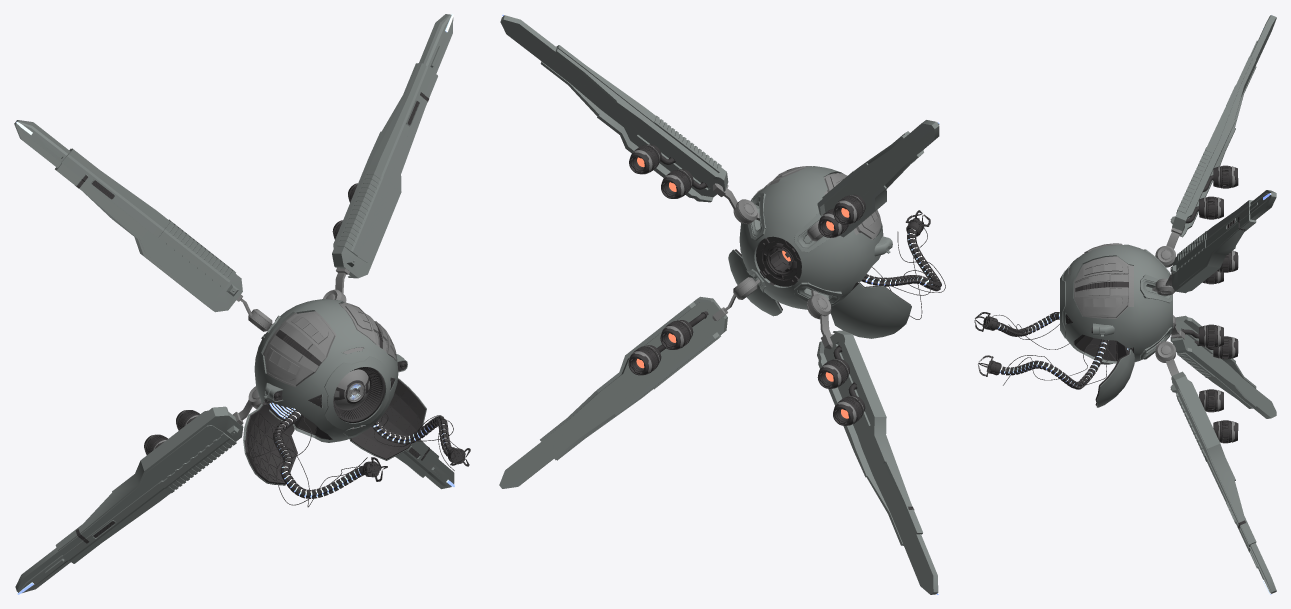
The model's file is dronex-transformed.glb.
3 renders of one model, left to right at view 1: azimuth 30°, elevation 25°; view 2: azimuth 150°, elevation 25°; view 3: azimuth 270°, elevation 25°, orthographic. The views are drawn at different scales.
Visible parts, largest first — view 1: Object_4, Object_8, Object_13, Object_9; view 2: Object_4, Object_8, Object_13; view 3: Object_4, Object_8, Object_13, Object_9.
Part boxes in pixels (x1,y1,x2,y2): Object_4: (14,14,454,592); Object_8: (76,92,470,543); Object_13: (144,183,396,450); Object_9: (16,14,454,594); Object_4: (499,15,939,594); Object_8: (628,144,945,509); Object_13: (631,145,881,425); Object_4: (1060,15,1276,593); Object_8: (974,165,1245,529); Object_13: (1068,166,1235,442); Object_9: (998,14,1271,594).
Size of the model in its own units: 7.03 by 7.27 by 4.95.
5 materials, 5 textured.
